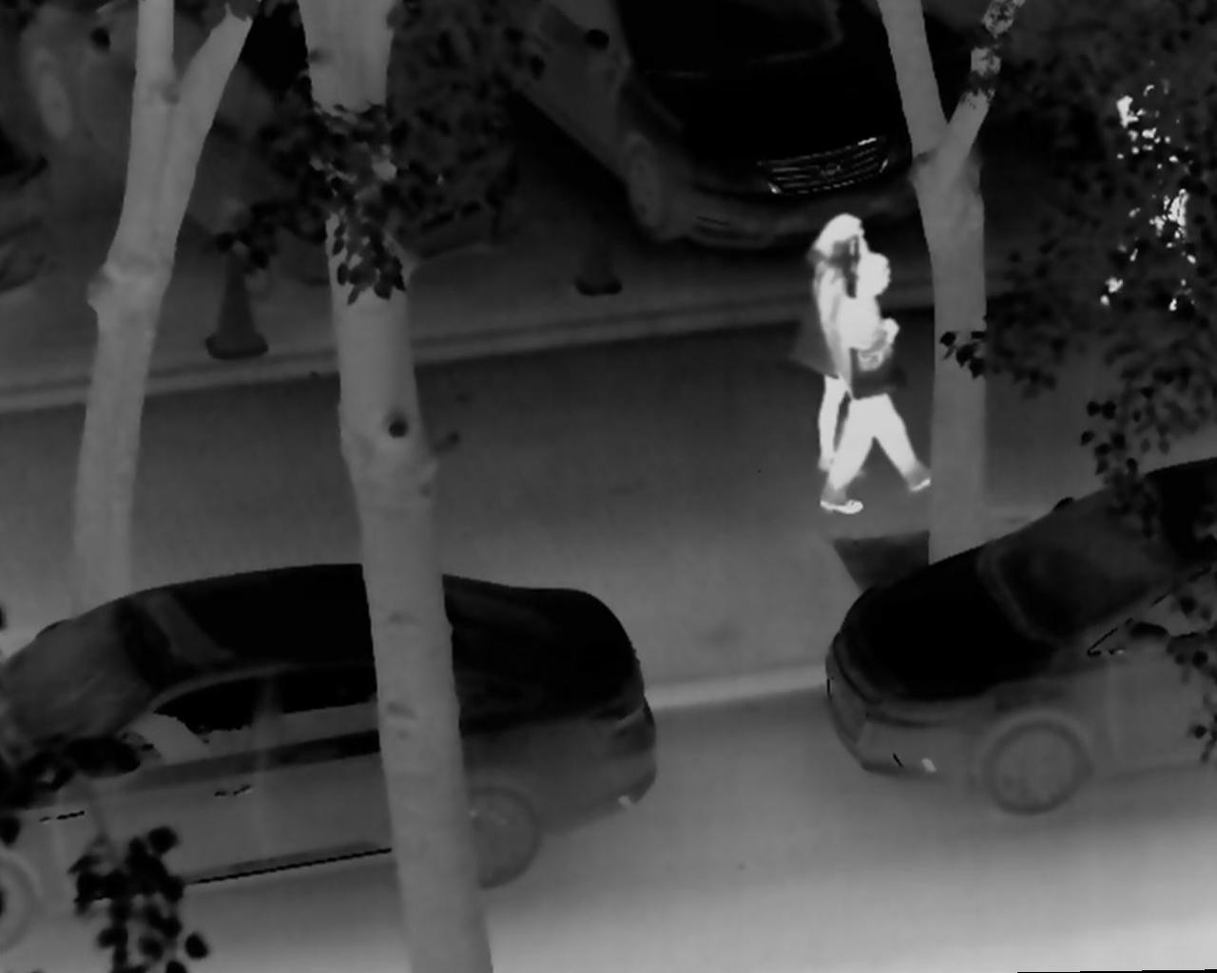person: (1095, 44, 1214, 319), (816, 255, 932, 516), (797, 210, 900, 479)
